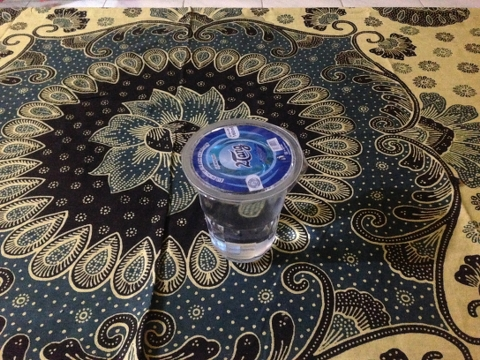tempat minum: (181, 119, 303, 263)
